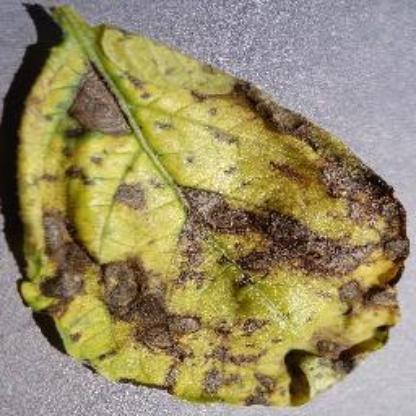Early-Blight: (10, 7, 408, 407)
